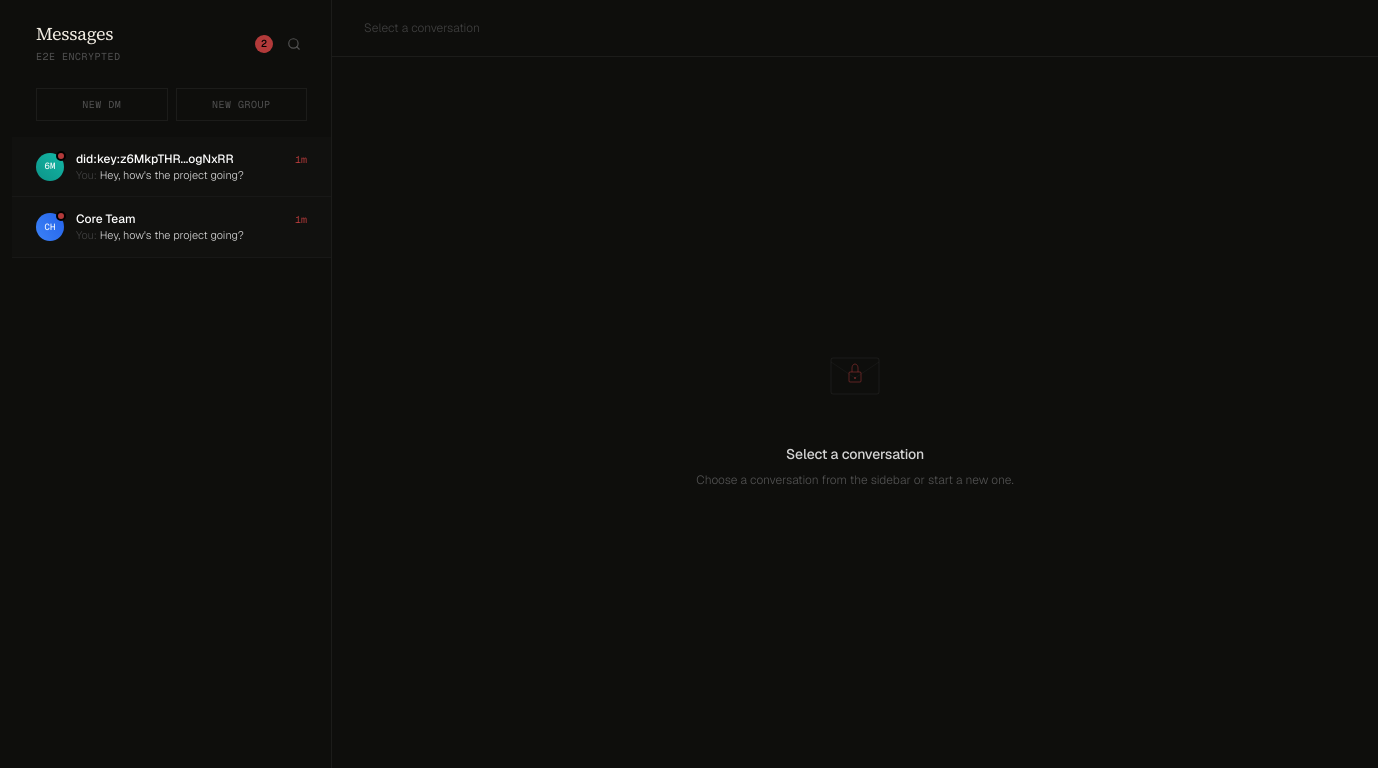
Test: Messages page › Message view › shows message input after selecting a channel
Click the button that starts with "did:key:z6MkpTHR...ogNxRR".
click(172, 167)  # box x1=12 y1=137 x2=331 y2=198
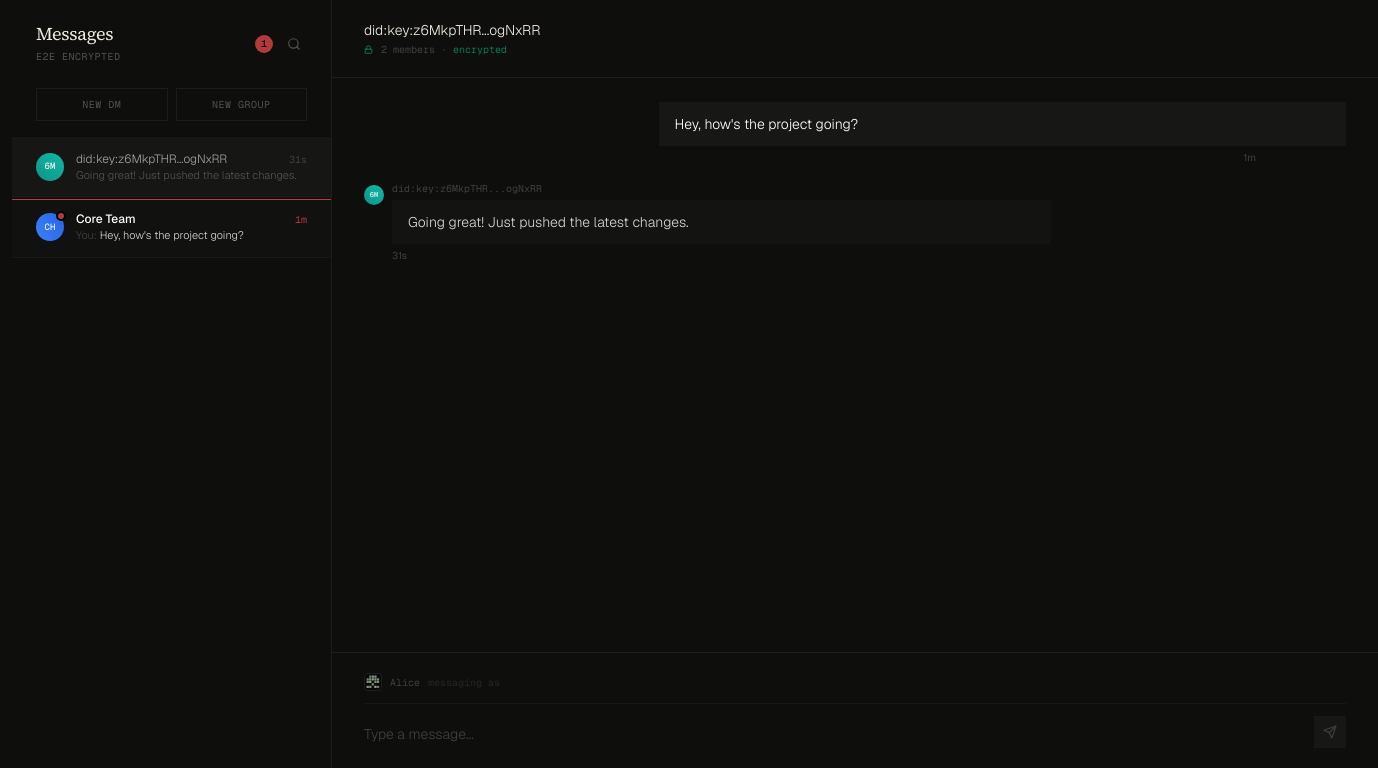
Expected: the text box with placeholder "Type a message..." is shown, x1=364 y1=724 x2=1302 y2=748
